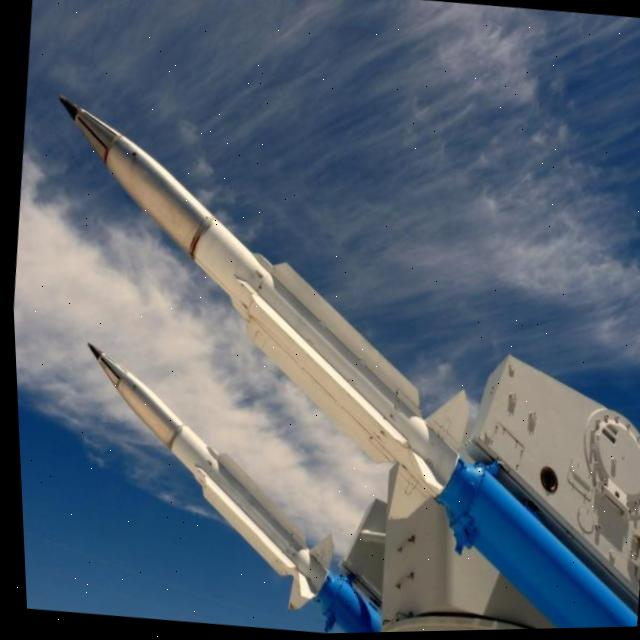missile: (10, 85, 516, 541), (52, 335, 363, 625)
